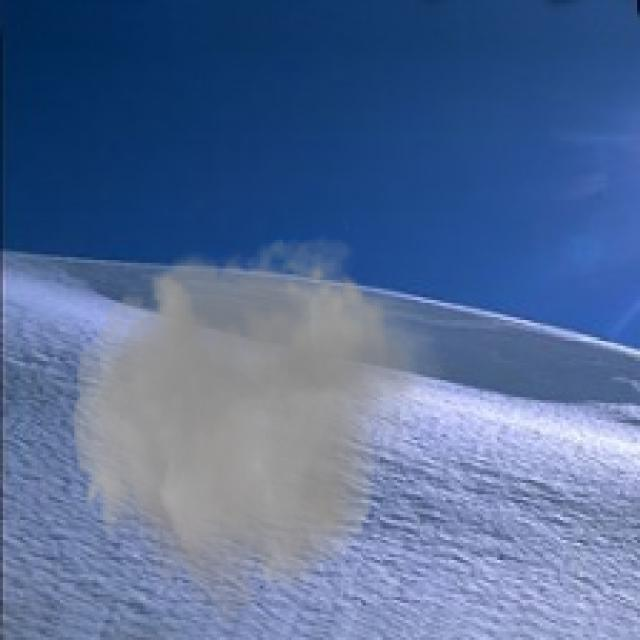smoke: (63, 220, 451, 637)
